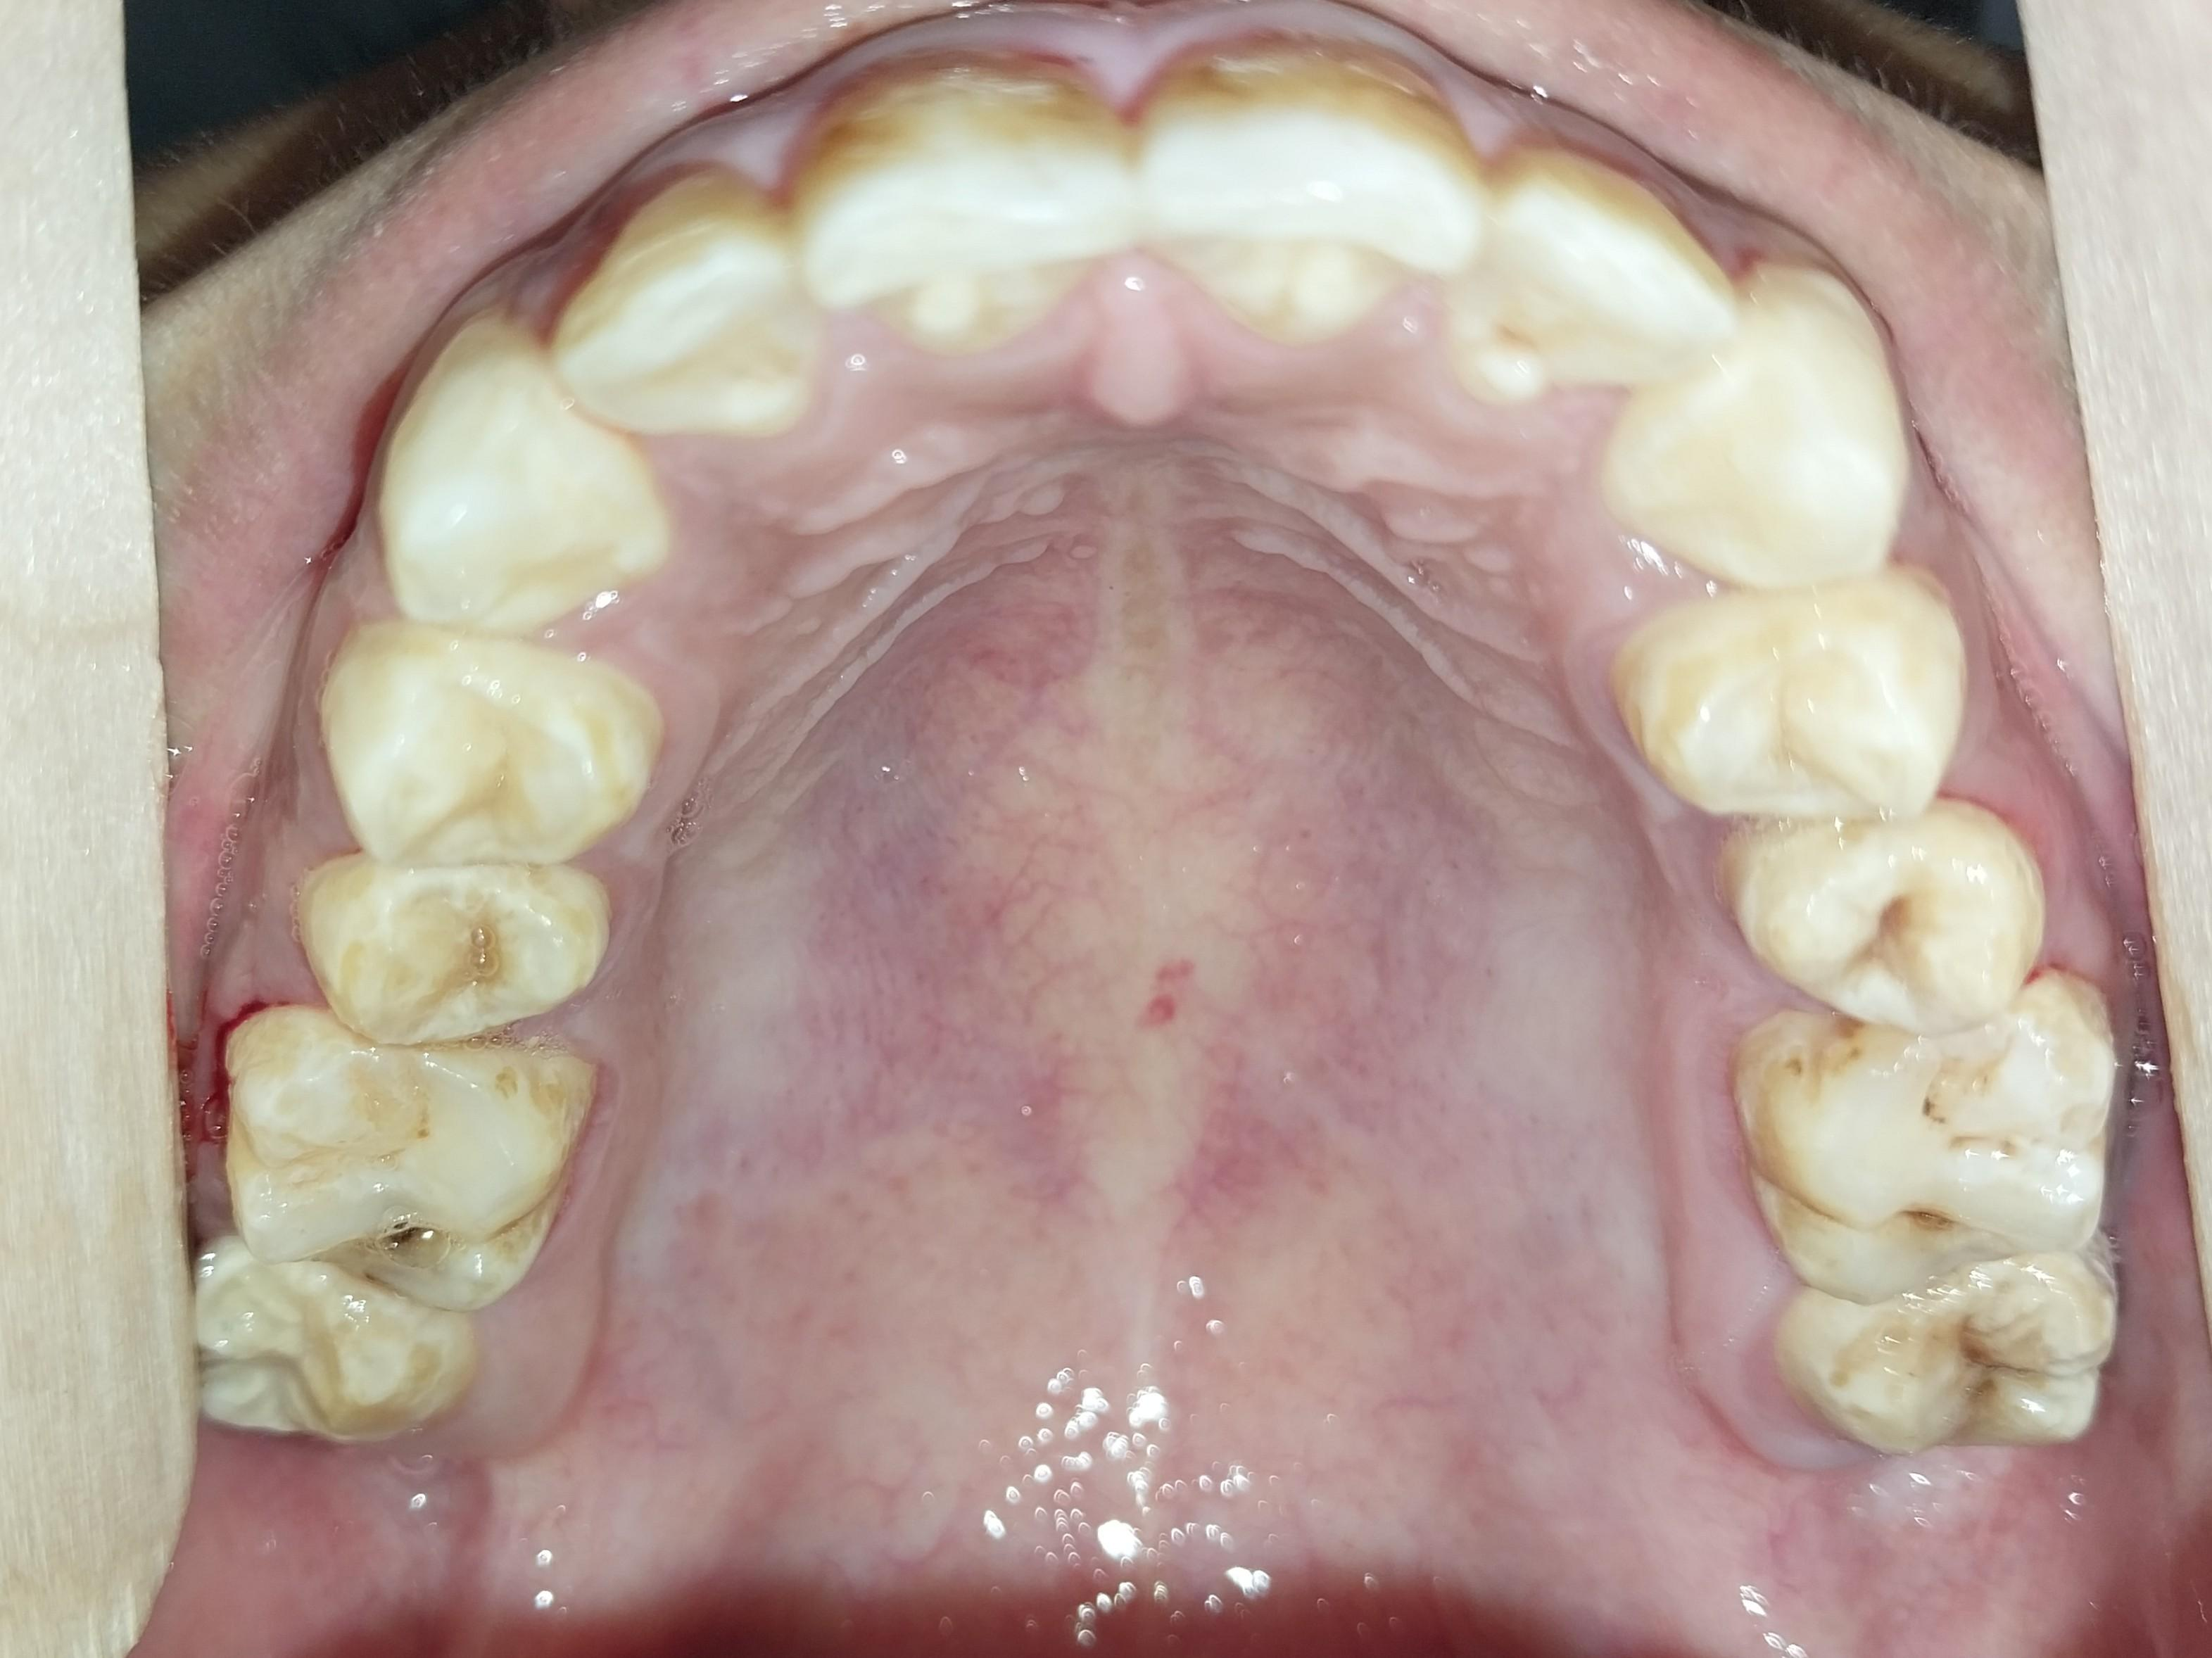D: (1729, 966, 2113, 1298), (217, 999, 605, 1315), (1725, 797, 2061, 1034), (1775, 1288, 2119, 1445)
